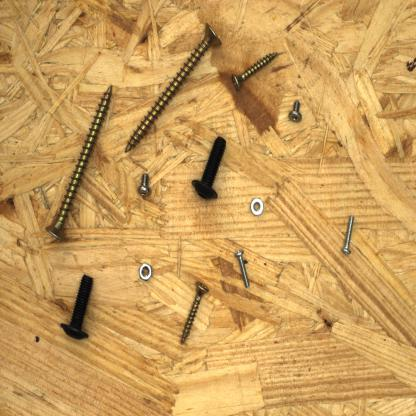screw: (123, 18, 225, 156), (42, 82, 116, 244), (56, 272, 96, 344), (190, 134, 229, 204), (229, 49, 281, 95), (178, 278, 212, 346), (232, 247, 252, 291), (341, 211, 356, 257), (134, 171, 155, 200), (285, 97, 306, 124)
